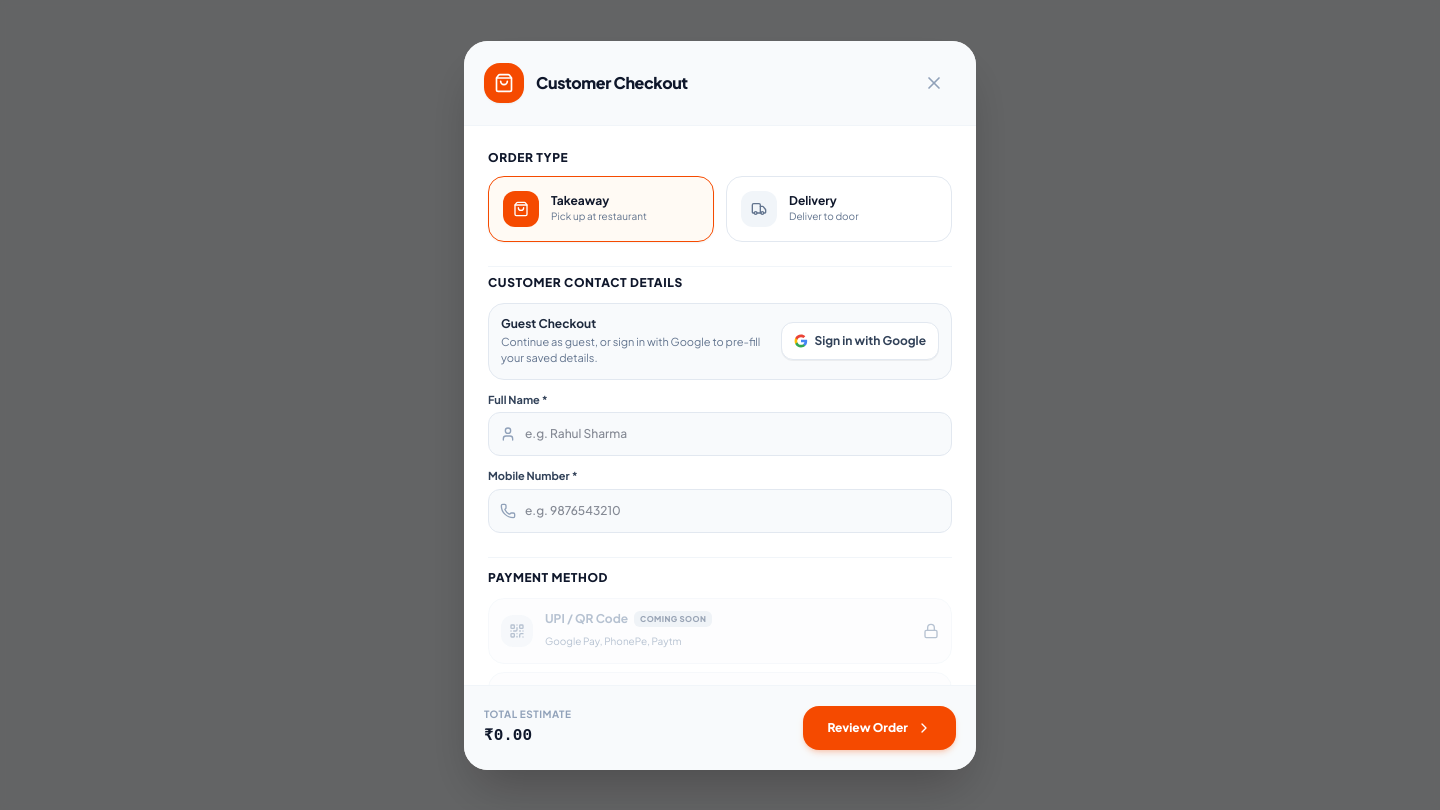
Test: Milestone 9 — Phase 1: Customer Account & Profile Foundation Suite › Guest Checkout Compatibility › TEST 2: Guest checkout input validation works correctly for guest users
The width and height of the screenshot is (1440, 810).
Click the button "Review Order": click(880, 728) x1=803 y1=706 x2=956 y2=750
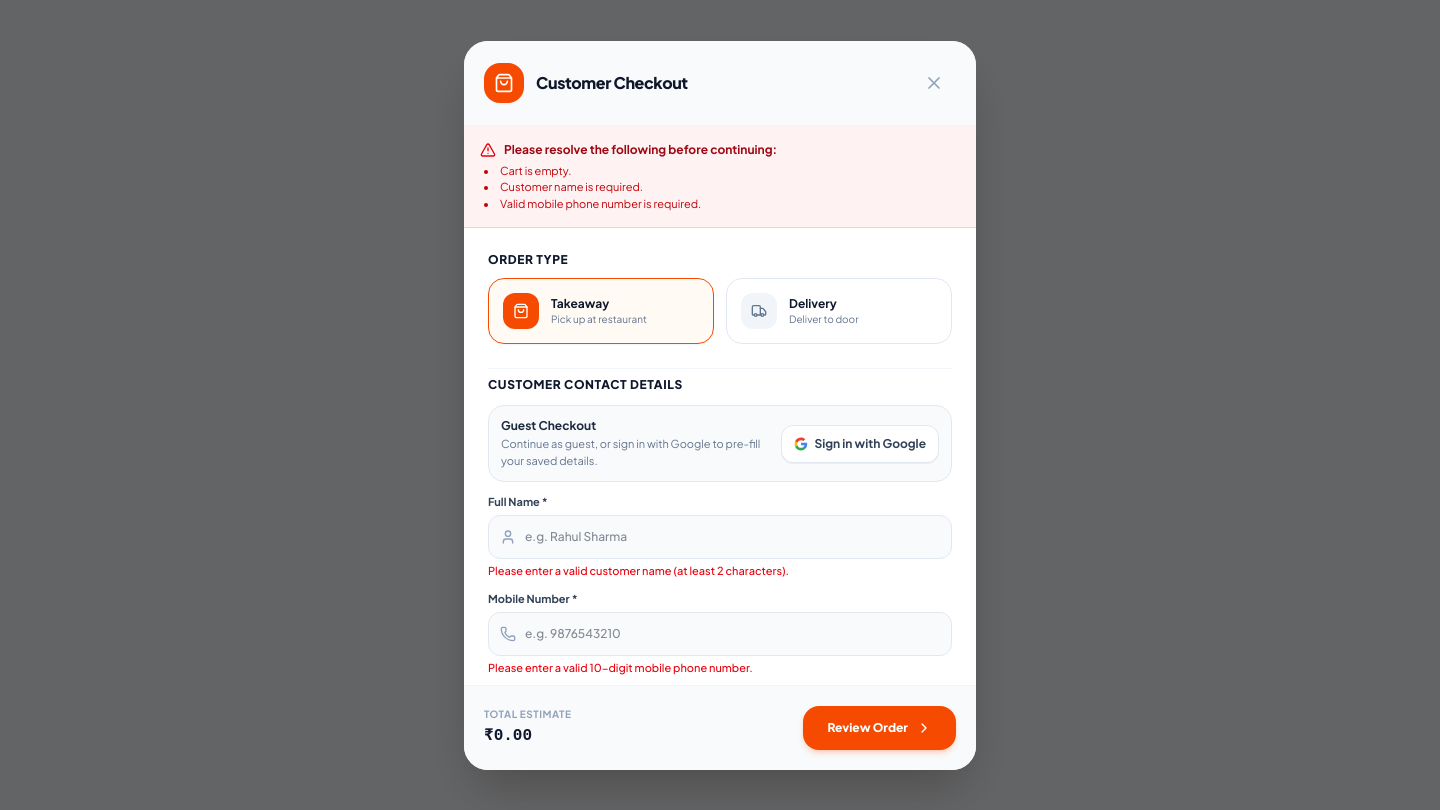
Expected: the list item "Customer name is required." is shown, x1=500 y1=180 x2=643 y2=193
Expected: the list item "Valid mobile phone number is required." is shown, x1=500 y1=197 x2=701 y2=210
